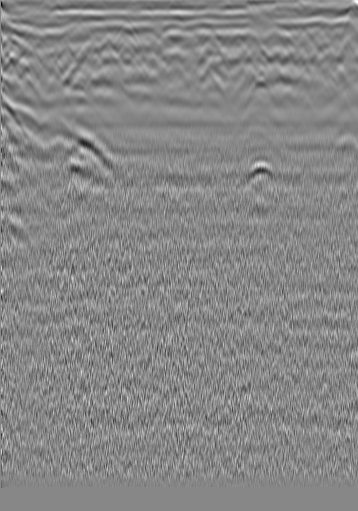가스: (242, 157, 281, 186)
상수: (0, 32, 20, 52)
오수: (293, 25, 313, 45)
우수: (144, 28, 164, 48)
